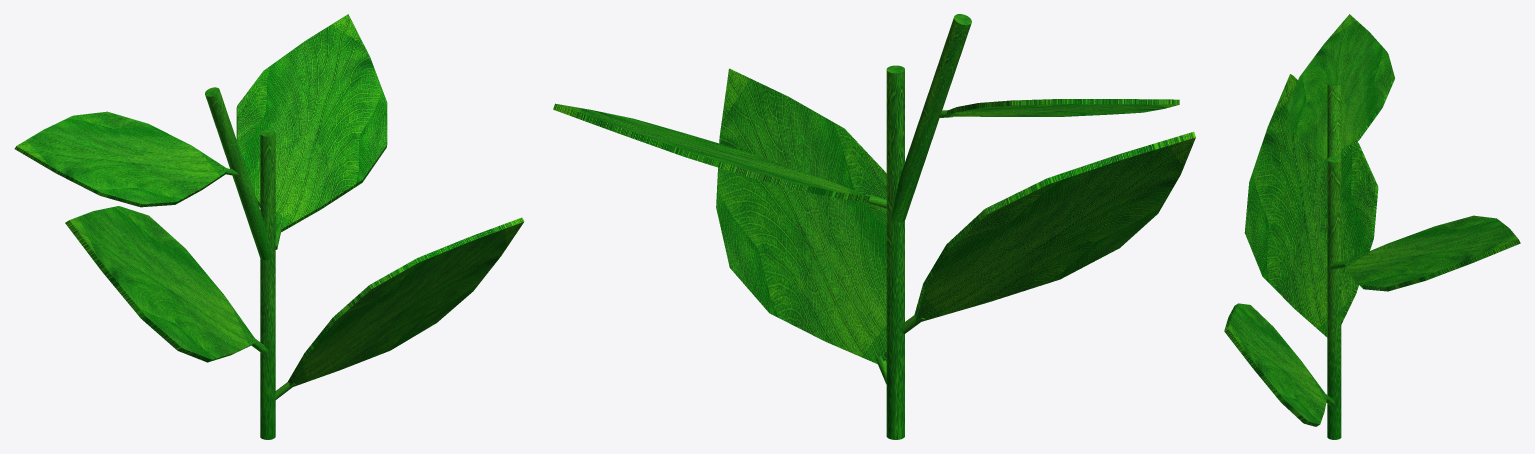
The model's file is Planta.fbx.
3 renders of one model, left to right at view 1: azimuth 30°, elevation 25°; view 2: azimuth 150°, elevation 25°; view 3: azimuth 270°, elevation 25°, orthographic. The views are drawn at different scales.
Visible parts, largest first — view 1: Cylinder.001; view 2: Cylinder.001; view 3: Cylinder.001.
Part boxes in pixels (x1,y1,x2,y2): Cylinder.001: (14,14,524,439); Cylinder.001: (553,14,1195,439); Cylinder.001: (1224,14,1520,439).
Bounding box in the file's own units: 156 × 122 × 99.22.
5 materials, 5 textured.
